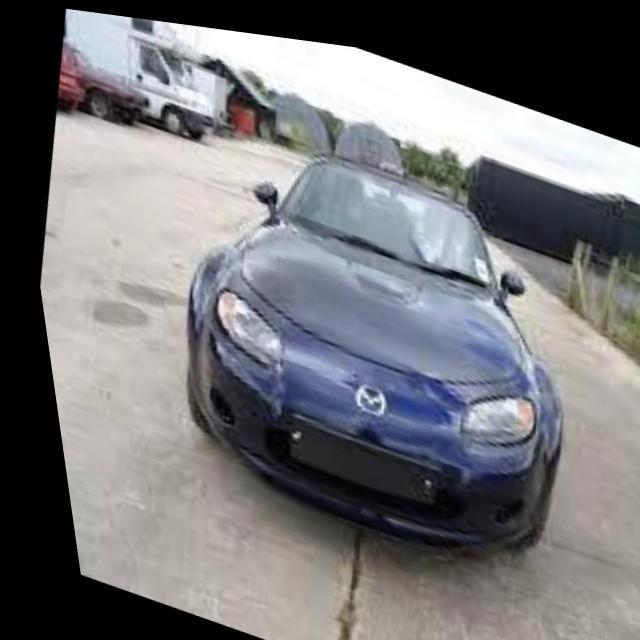rub: (192, 317, 278, 404)
